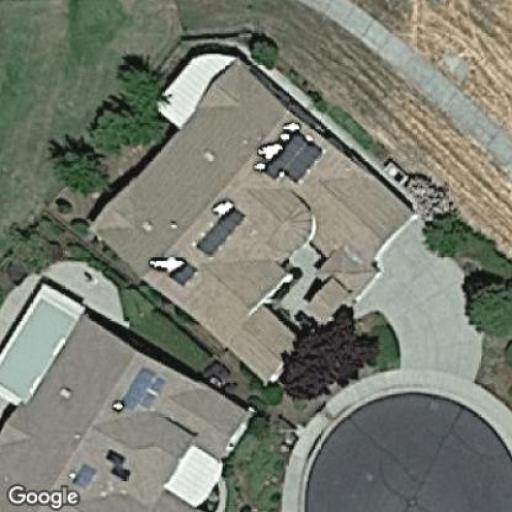solar-panel: (264, 118, 323, 188), (194, 204, 250, 258), (115, 365, 171, 418), (99, 442, 137, 485), (162, 262, 206, 287), (69, 460, 97, 491)
